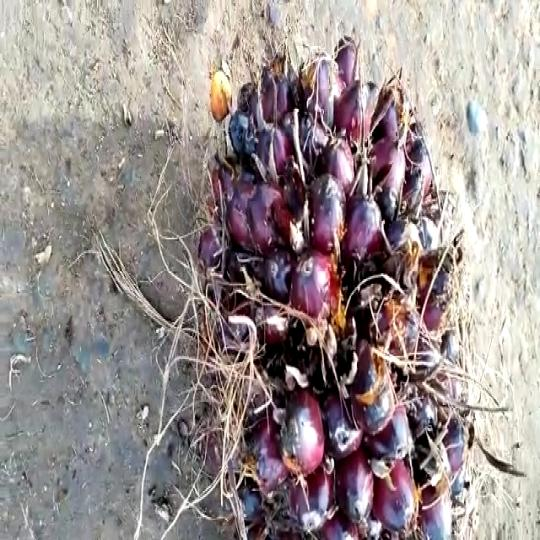kurang masak: (203, 40, 469, 540)
